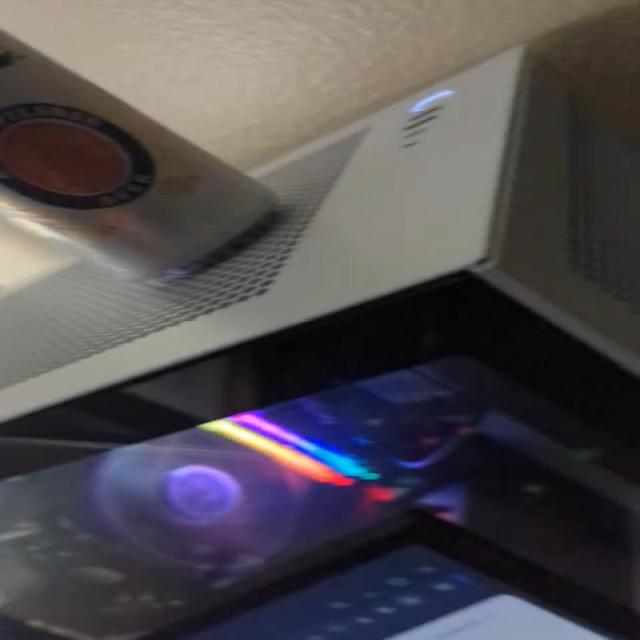metal: (0, 29, 274, 280)
